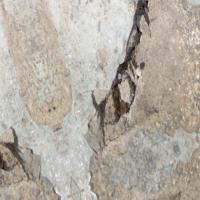crack: (75, 1, 156, 148)
